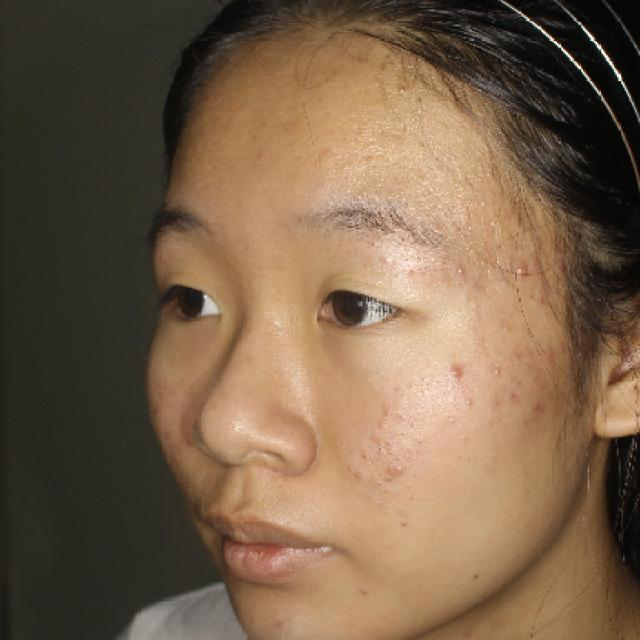Acne: (443, 356, 474, 390), (389, 80, 414, 102)
Whiteheads: (458, 388, 489, 412), (448, 258, 472, 284), (488, 360, 509, 382), (508, 260, 526, 278), (391, 460, 409, 477)
